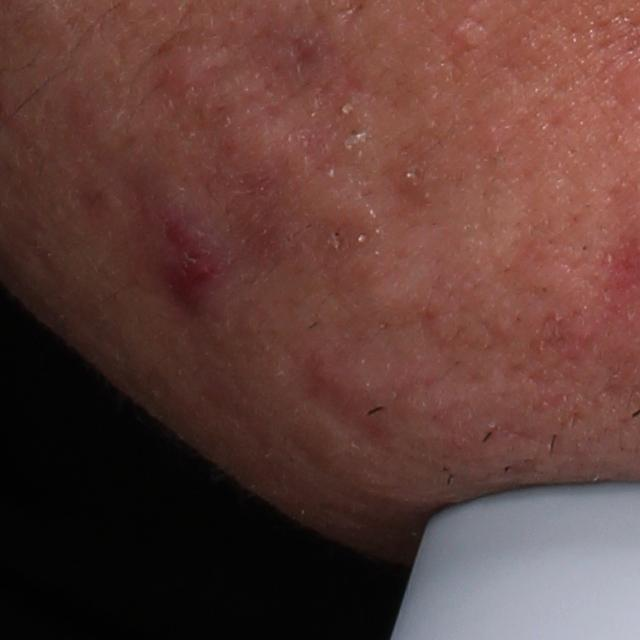papule: (148, 42, 217, 105), (297, 351, 344, 395)
